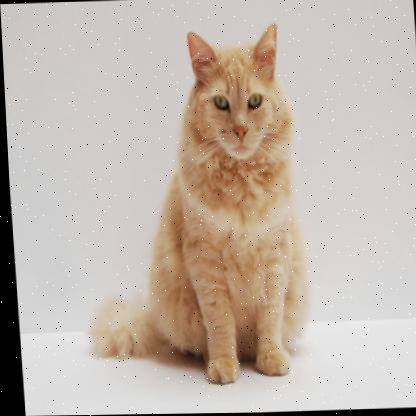cat: (59, 18, 325, 392)
